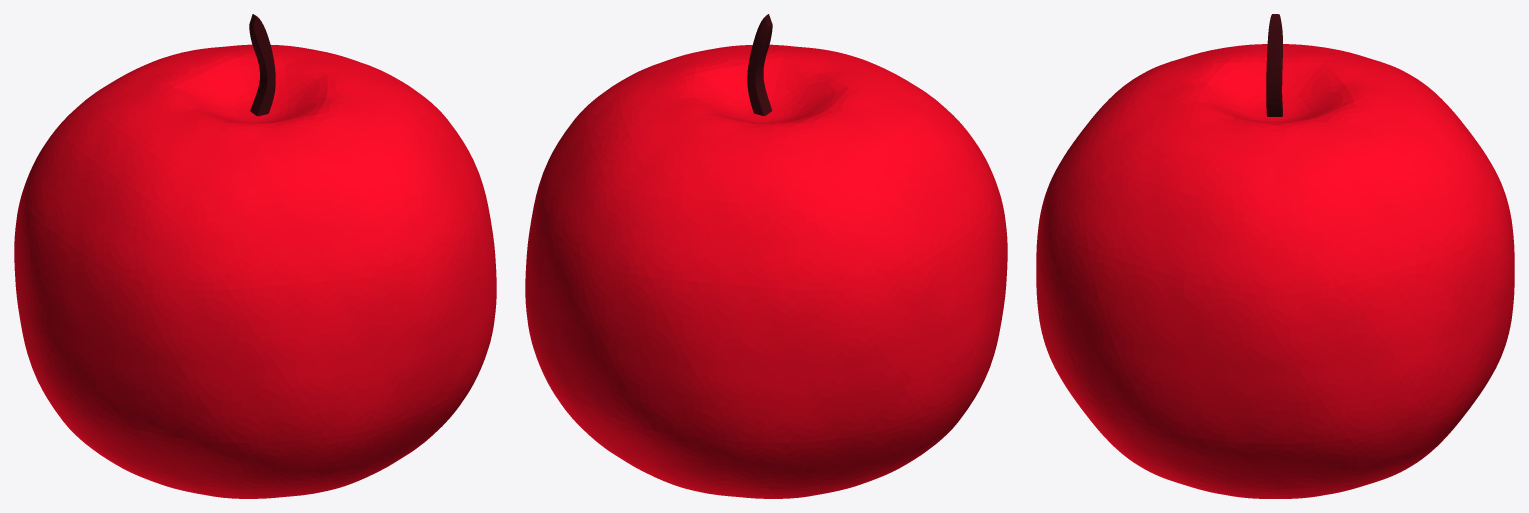
The model's file is ASHIKapple.fbx.
3 views of the same model, side by side, from view 1: azimuth 30°, elevation 25°; view 2: azimuth 150°, elevation 25°; view 3: azimuth 270°, elevation 25° (orthographic).
Parts seen in each view (by area): view 1: Icosphere, Cube; view 2: Icosphere, Cube; view 3: Icosphere, Cube.
Boxes of the visible parts, left/top/right/bottom form: Icosphere: left=14, top=44, right=496, bottom=498; Cube: left=249, top=14, right=275, bottom=116; Icosphere: left=525, top=44, right=1007, bottom=498; Cube: left=747, top=14, right=772, bottom=115; Icosphere: left=1036, top=44, right=1514, bottom=498; Cube: left=1266, top=14, right=1282, bottom=116.
Bounding box in the file's own units: 309 × 311 × 306.
